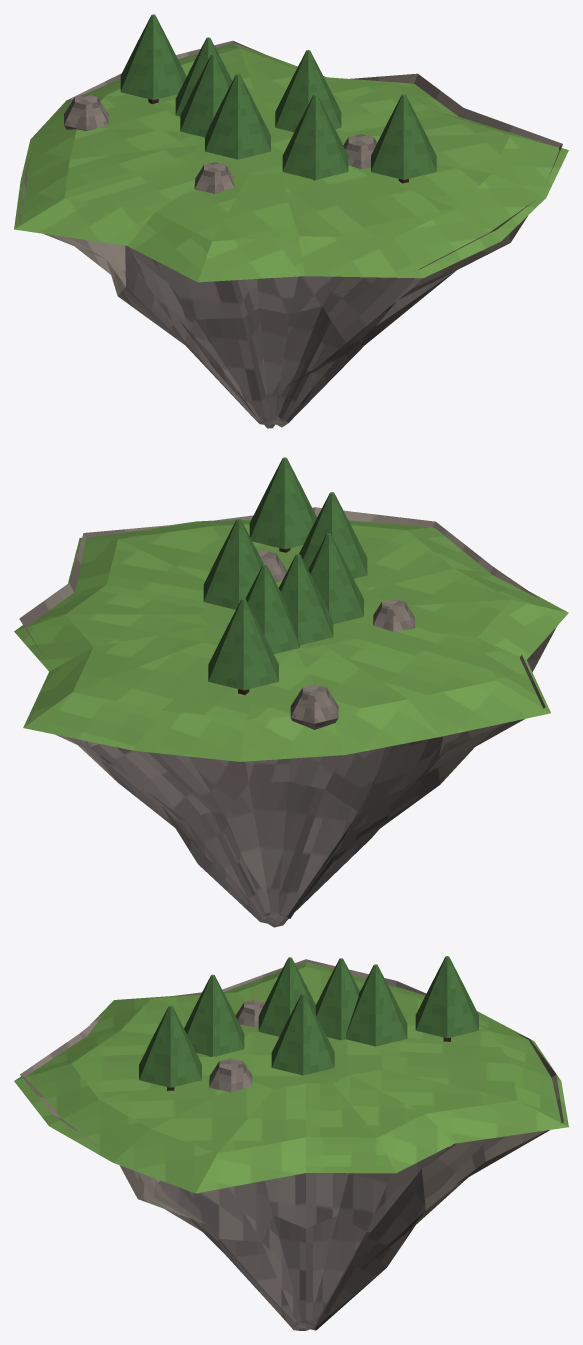
Rendered from SM_Env_SkyIsland_HQ.glb.
3 views of the same model, one above another, from view 1: azimuth 30°, elevation 25°; view 2: azimuth 150°, elevation 25°; view 3: azimuth 270°, elevation 25° (orthographic). The views are drawn at different scales.
Visible parts, largest first — view 1: SM_Env_SkyIsland_HQ; view 2: SM_Env_SkyIsland_HQ; view 3: SM_Env_SkyIsland_HQ.
Part boxes in pixels (<box>): SM_Env_SkyIsland_HQ: <box>14,14,568,428</box>; SM_Env_SkyIsland_HQ: <box>14,457,568,927</box>; SM_Env_SkyIsland_HQ: <box>14,956,568,1330</box>.
Bounding box in the file's own units: 21.16 × 14.89 × 21.34.
Materials: 1 (1 with a texture image).
